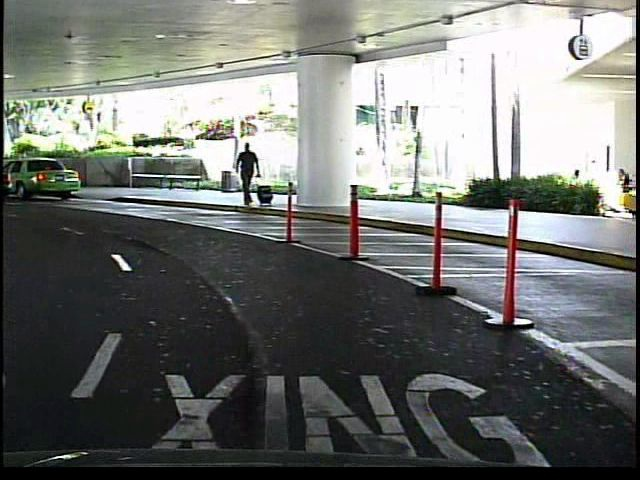person: (233, 137, 265, 211)
